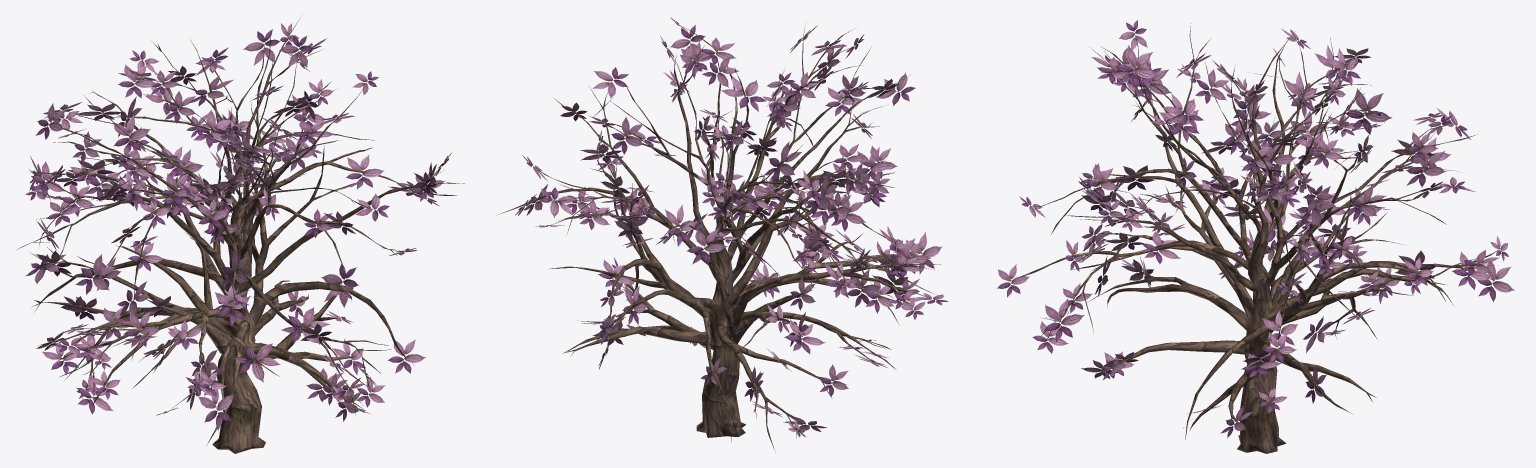
Rendered from tree-04.fbx.
The picture shows the model from 3 angles, left to right: view 1: azimuth 30°, elevation 25°; view 2: azimuth 150°, elevation 25°; view 3: azimuth 270°, elevation 25°; orthographic projection. The views are drawn at different scales.
Parts seen in each view (by area): view 1: Plane.004, tree.003_tree.001; view 2: Plane.004, tree.003_tree.001; view 3: Plane.004, tree.003_tree.001.
Part boxes in pixels (box(x1,y1,x2,y2)): Plane.004: box(25, 23, 451, 430); tree.003_tree.001: box(17, 17, 464, 453); Plane.004: box(515, 17, 948, 437); tree.003_tree.001: box(499, 26, 940, 451); Plane.004: box(997, 20, 1514, 437); tree.003_tree.001: box(1000, 23, 1503, 453).
Bounding box in the file's own units: 9.96 × 8.99 × 10.93.
